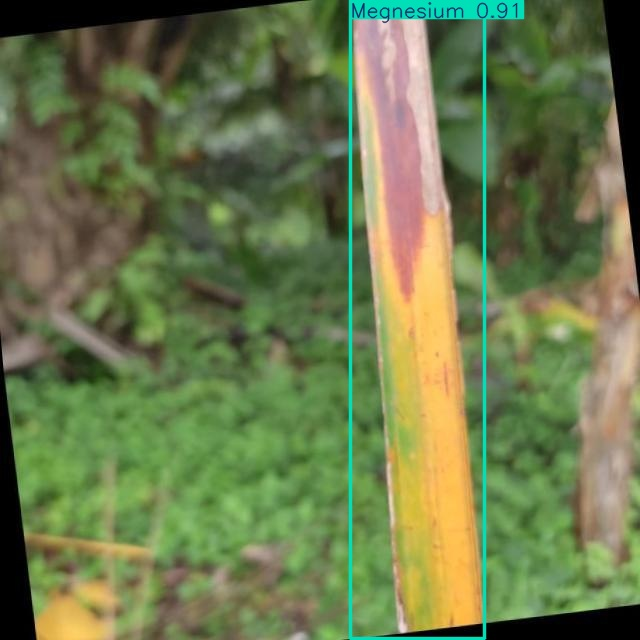Megnesium: (351, 0, 485, 639)
